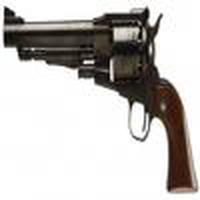gun: (4, 11, 200, 199)
